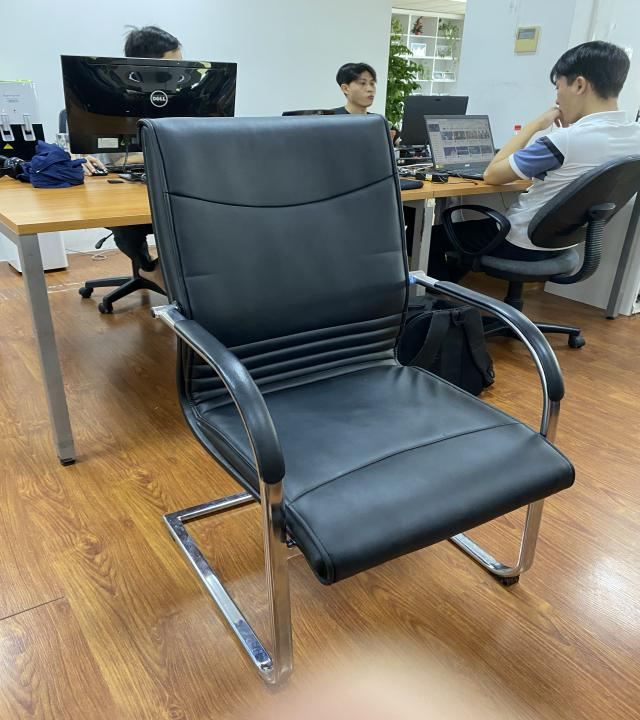SS_03: (133, 108, 579, 692)
